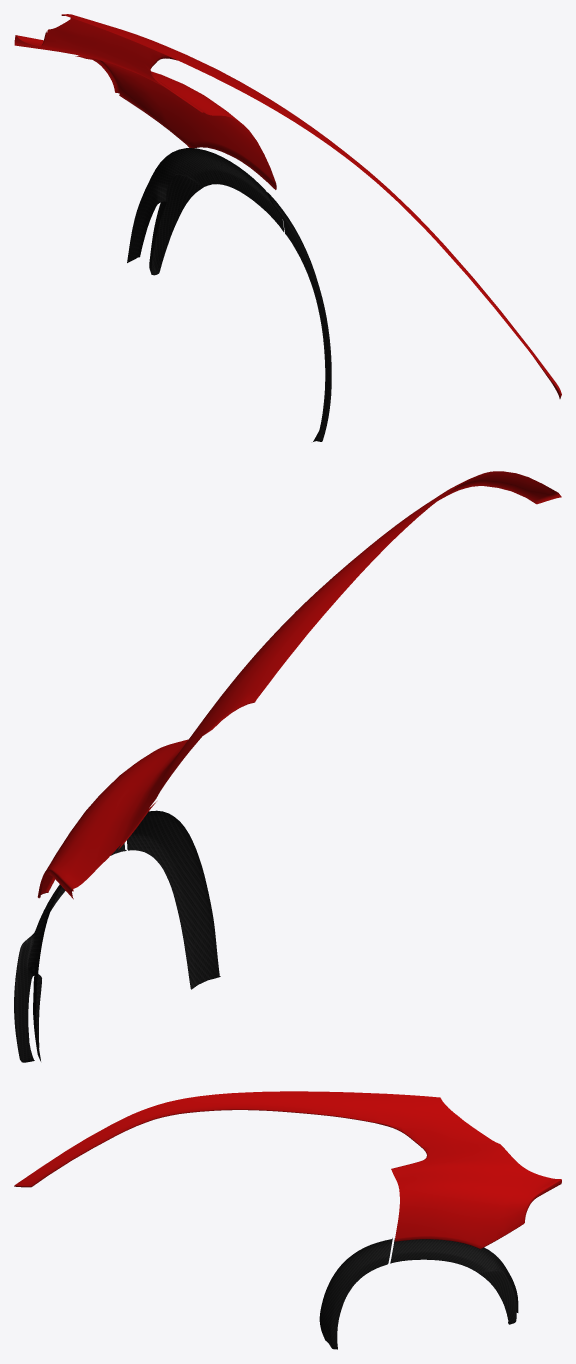
The model's file is sparkboard_lr.glb.
The picture shows the model from 3 angles, top to bottom: view 1: azimuth 30°, elevation 25°; view 2: azimuth 150°, elevation 25°; view 3: azimuth 270°, elevation 25°; orthographic projection. The views are drawn at different scales.
Visible parts, largest first — view 1: Paint_Geo_lodA_Ferrari_PurosangueRewardRecycled_2023Paint_M., Carbon2_Geo_lodA_Ferrari_PurosangueRewardRecycled_2023Carbo.; view 2: Paint_Geo_lodA_Ferrari_PurosangueRewardRecycled_2023Paint_M., Carbon2_Geo_lodA_Ferrari_PurosangueRewardRecycled_2023Carbo.; view 3: Paint_Geo_lodA_Ferrari_PurosangueRewardRecycled_2023Paint_M., Carbon2_Geo_lodA_Ferrari_PurosangueRewardRecycled_2023Carbo..
Boxes of the visible parts, x1,y1,x2,y2 form: Paint_Geo_lodA_Ferrari_PurosangueRewardRecycled_2023Paint_M.: (14, 14, 561, 398); Carbon2_Geo_lodA_Ferrari_PurosangueRewardRecycled_2023Carbo.: (127, 148, 331, 441); Paint_Geo_lodA_Ferrari_PurosangueRewardRecycled_2023Paint_M.: (37, 471, 561, 899); Carbon2_Geo_lodA_Ferrari_PurosangueRewardRecycled_2023Carbo.: (14, 810, 220, 1062); Paint_Geo_lodA_Ferrari_PurosangueRewardRecycled_2023Paint_M.: (14, 1091, 561, 1248); Carbon2_Geo_lodA_Ferrari_PurosangueRewardRecycled_2023Carbo.: (319, 1238, 518, 1349).
Bounding box in the file's own units: 0.00549 × 0.0124 × 0.0275.
2 materials, 1 textured.
